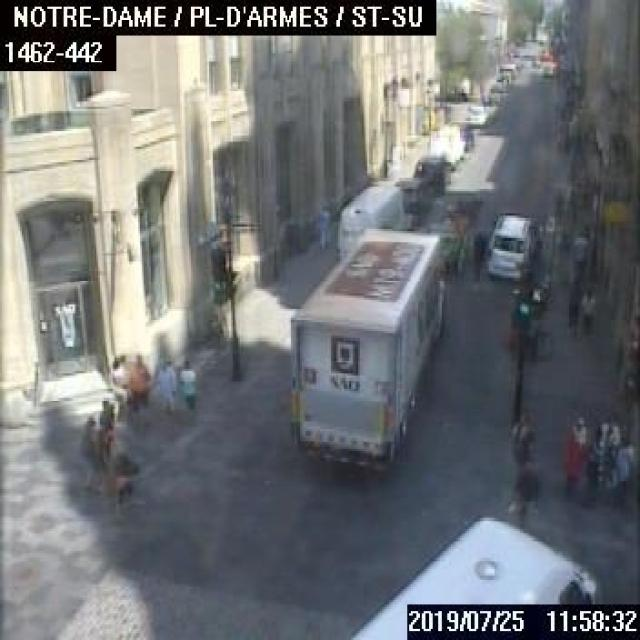pedestrian: (104, 436, 136, 512), (80, 414, 102, 490), (610, 431, 632, 503), (128, 351, 149, 424), (158, 355, 176, 422), (110, 352, 128, 418), (566, 436, 584, 502), (179, 356, 195, 422), (566, 277, 579, 335), (97, 397, 113, 438), (572, 231, 585, 281), (581, 288, 594, 336), (570, 414, 585, 455), (472, 228, 483, 280), (313, 206, 327, 246)
vehicle: (285, 232, 444, 478), (349, 513, 595, 638), (335, 184, 408, 261), (482, 211, 534, 278), (393, 175, 434, 214), (428, 124, 462, 168), (412, 152, 449, 192), (463, 104, 490, 125), (459, 125, 474, 149)
